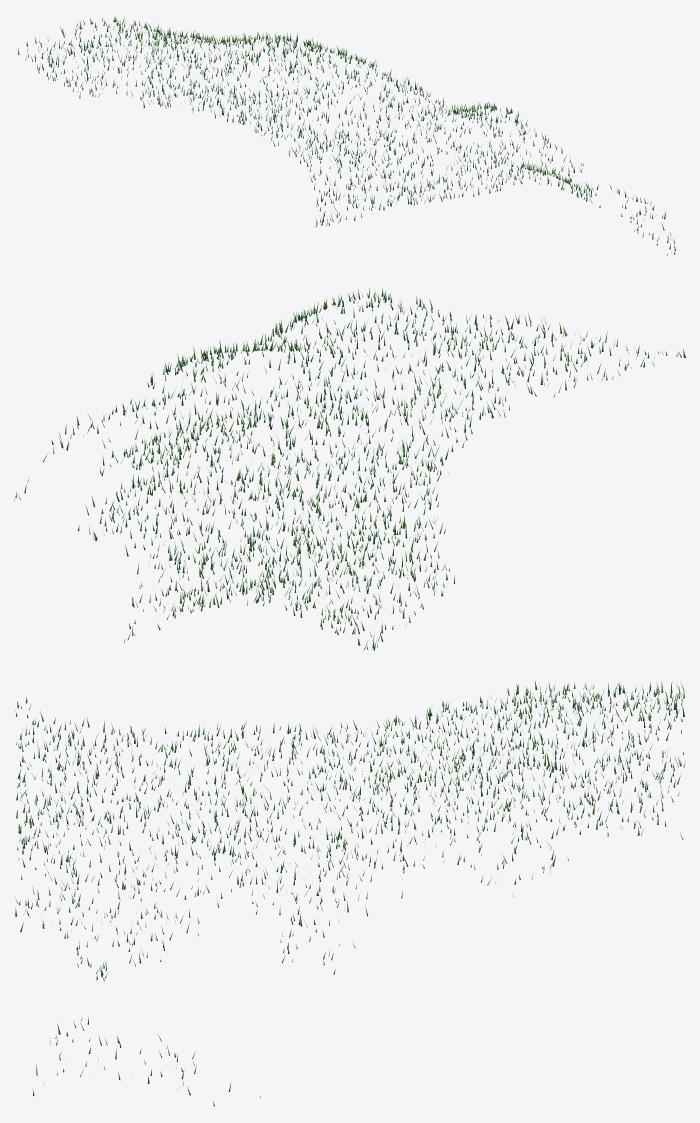
3 views of the same model, one above another, from view 1: azimuth 30°, elevation 25°; view 2: azimuth 150°, elevation 25°; view 3: azimuth 270°, elevation 25° (orthographic). The views are drawn at different scales.
Visible parts, largest first — view 1: gc_49; view 2: gc_49; view 3: gc_49.
Part boxes in pixels (box(x1,y1,x2,y2)): gc_49: box(18, 16, 675, 255); gc_49: box(14, 288, 685, 650); gc_49: box(15, 681, 685, 1106).
Size of the model in its own units: 17.09 by 5.43 by 18.1.
Materials: 1 (1 with a texture image).
